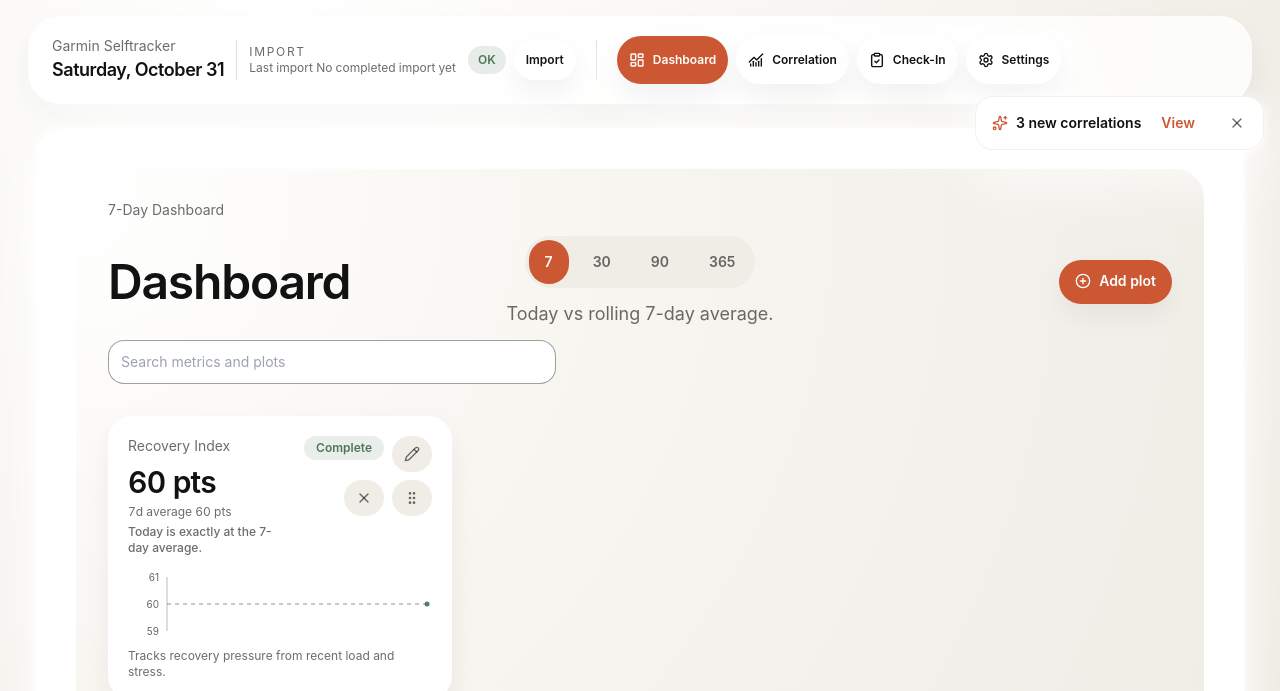
it: App persistence workflows › shows one count-only banner and keeps the queue unread when it is dismissed
expect the message named "New correlation notification" shows "3 new correlations": met, box left=975, top=96, right=1264, bottom=150
expect the text "Resting HR" is not shown: met
What coordinates should you click on to do the following:
click the button named "Dismiss correlation banner"
I would click on:
 (1237, 123)
Its box is left=1215, top=101, right=1259, bottom=145.
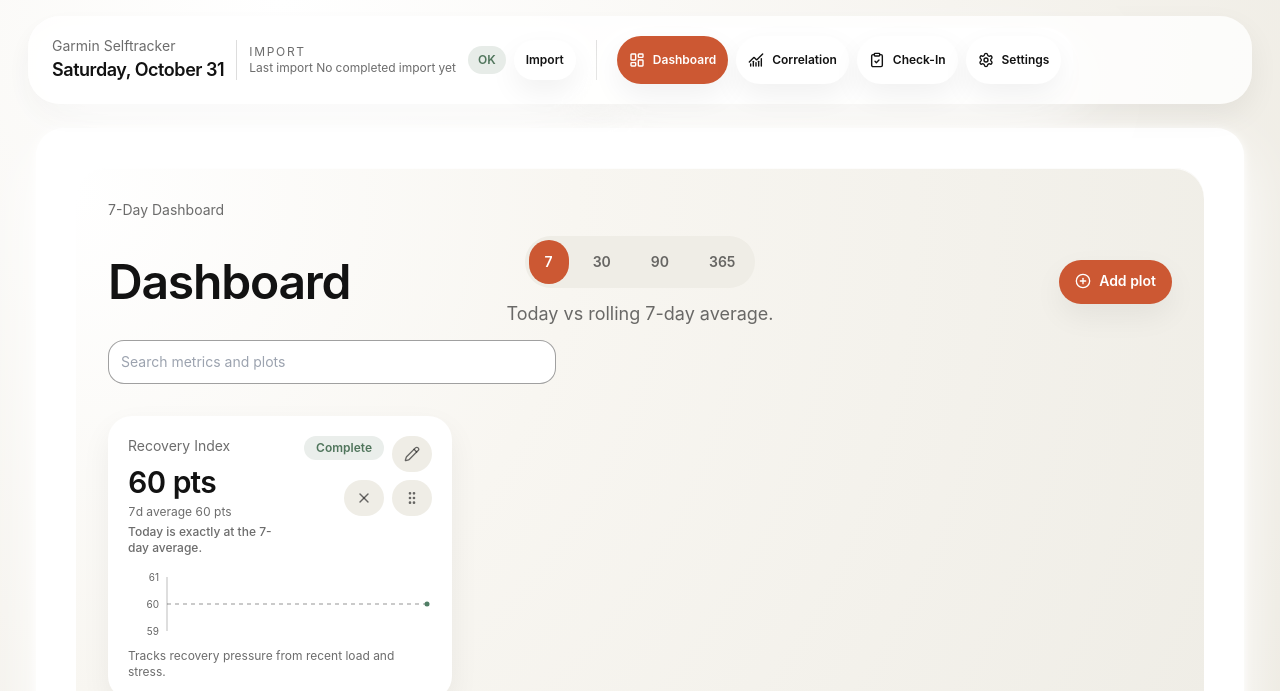
What coordinates should you click on to do the following:
click the button "Correlation"
I would click on:
 (792, 60)
Its box is left=736, top=36, right=849, bottom=84.
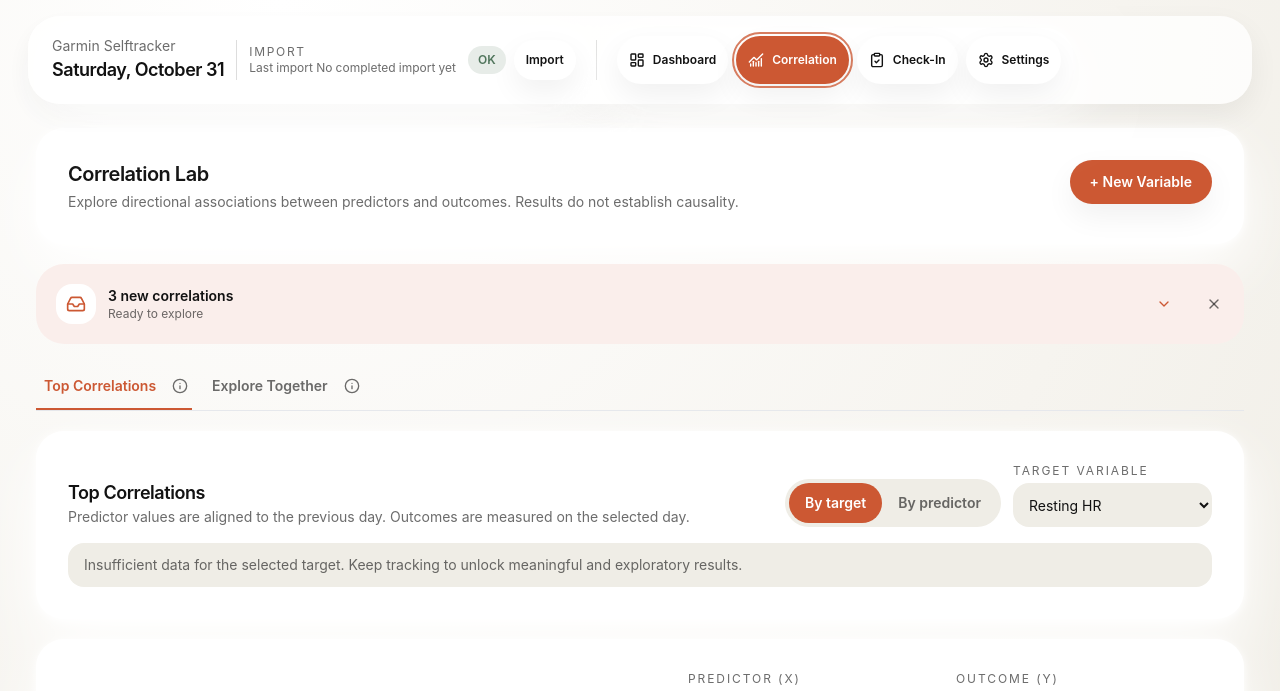
What coordinates should you click on to do the following:
click the button "3 new correlations Ready to explore"
I would click on:
 (76, 304)
Its box is left=36, top=264, right=1192, bottom=344.
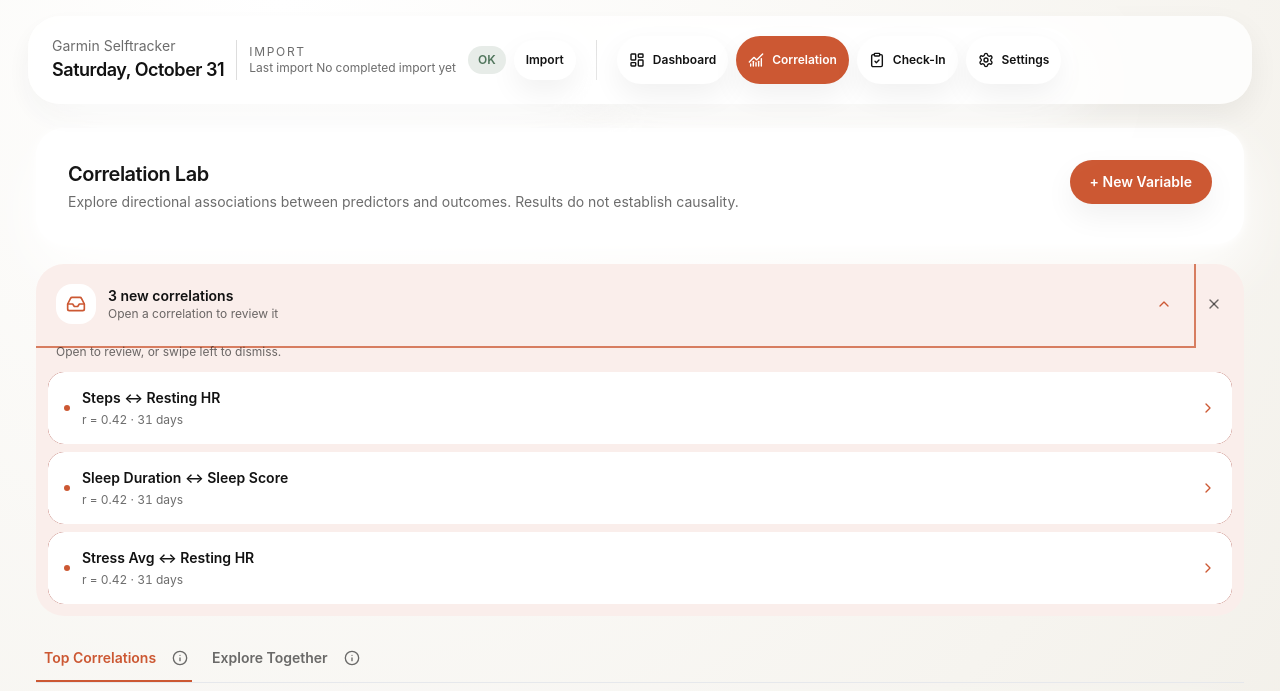
expect the number of buttons named "Review " is 3: met, box left=48, top=372, right=1232, bottom=444; left=48, top=452, right=1232, bottom=524; left=48, top=532, right=1232, bottom=604
